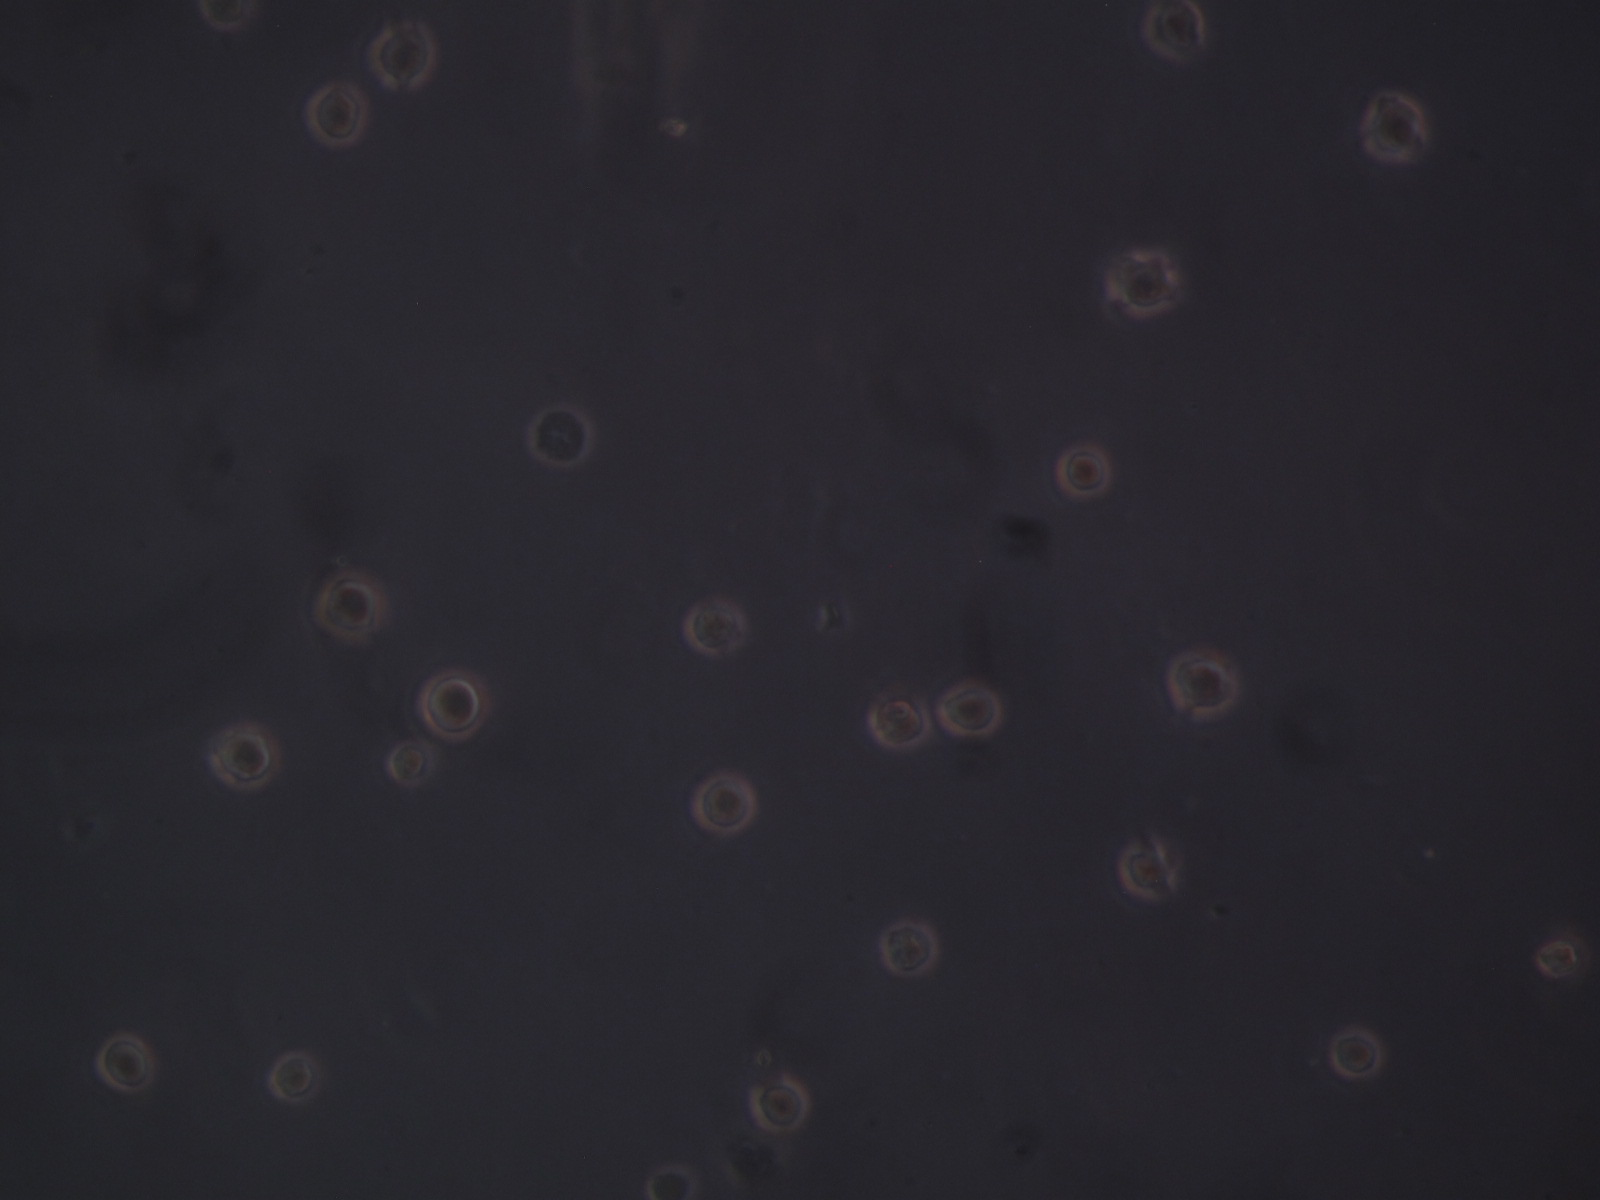hemo: (312, 568, 389, 645), (418, 668, 489, 741), (1107, 250, 1175, 316), (527, 403, 593, 471), (370, 21, 436, 91), (210, 724, 281, 788), (1165, 654, 1236, 717), (302, 83, 369, 147), (690, 771, 758, 834), (1364, 95, 1424, 163), (750, 1076, 813, 1136), (682, 597, 745, 655), (939, 682, 1003, 737), (97, 1032, 156, 1092), (1141, 1, 1204, 57), (879, 920, 940, 977), (866, 698, 930, 751), (1115, 845, 1170, 903), (384, 737, 443, 789), (266, 1049, 320, 1102), (1056, 445, 1109, 495), (1332, 1032, 1385, 1076), (1534, 938, 1579, 977)
